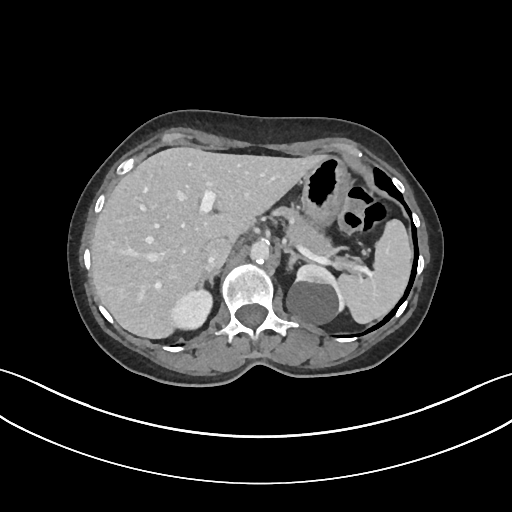Lesion: (283, 277, 343, 329)
